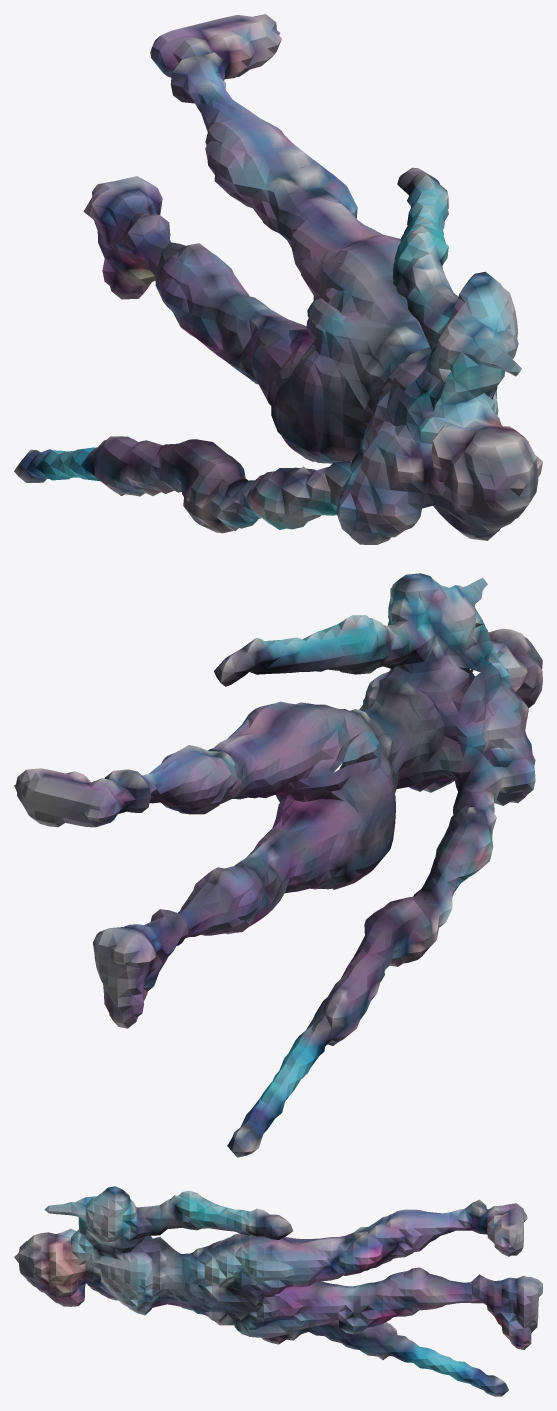
File: future_warrior_f_0.glb
The picture shows the model from 3 angles, top to bottom: view 1: azimuth 30°, elevation 25°; view 2: azimuth 150°, elevation 25°; view 3: azimuth 270°, elevation 25°; orthographic projection. The views are drawn at different scales.
Visible parts, largest first — view 1: world; view 2: world; view 3: world.
Boxes of the visible parts, x1,y1,x2,y2 form: world: (14, 14, 542, 544); world: (14, 573, 542, 1157); world: (14, 1186, 542, 1396).
Size of the model in its own units: 0.3632 by 0.4924 by 0.9755.
